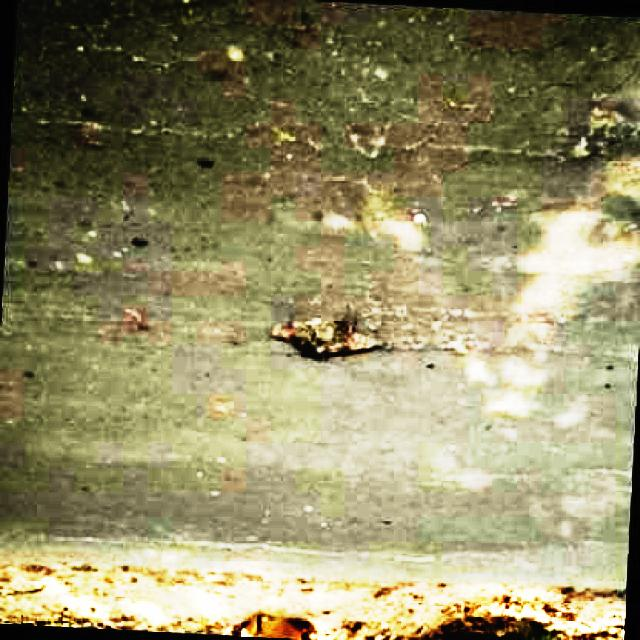pothole: (272, 314, 383, 361)
